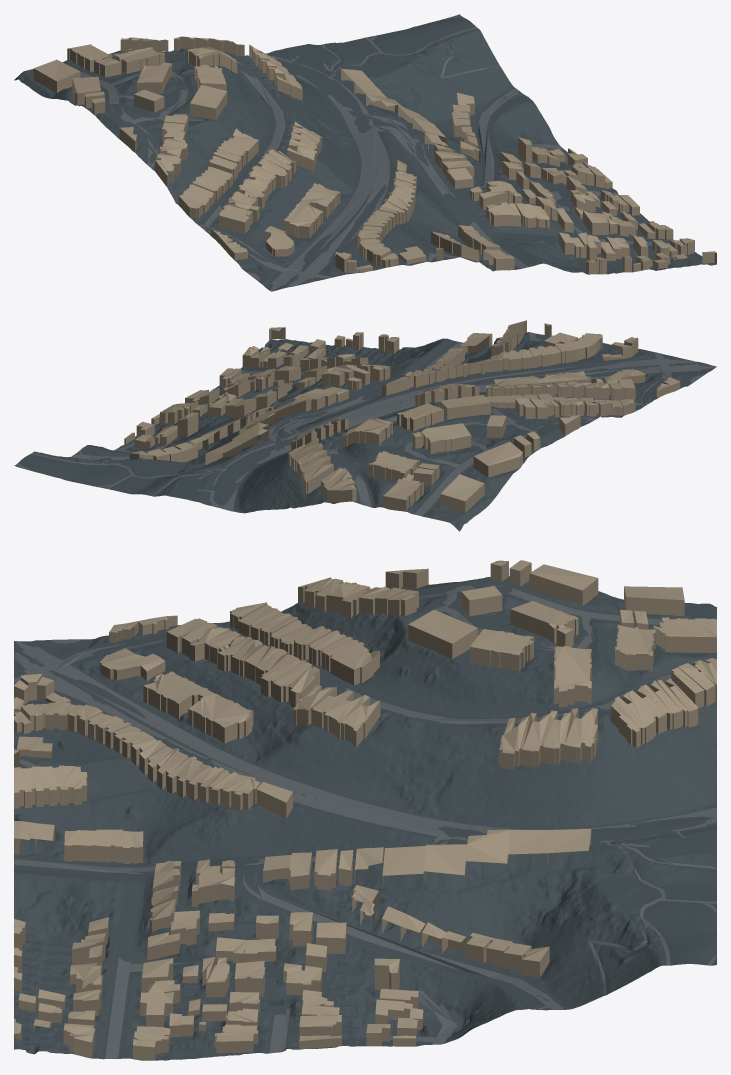
The model's file is epsg26910-1431-10878.lod0.glb.
3 renders of one model, top to bottom at view 1: azimuth 30°, elevation 25°; view 2: azimuth 150°, elevation 25°; view 3: azimuth 270°, elevation 25°, orthographic. The views are drawn at different scales.
Visible parts, largest first — view 1: epsg26910-1431-10878-lod0; view 2: epsg26910-1431-10878-lod0; view 3: epsg26910-1431-10878-lod0.
Boxes of the visible parts, x1,y1,x2,y2 form: epsg26910-1431-10878-lod0: (14,14,716,291); epsg26910-1431-10878-lod0: (14,320,716,531); epsg26910-1431-10878-lod0: (14,560,716,1060).
Size of the model in its own units: 384 by 124 by 384.
